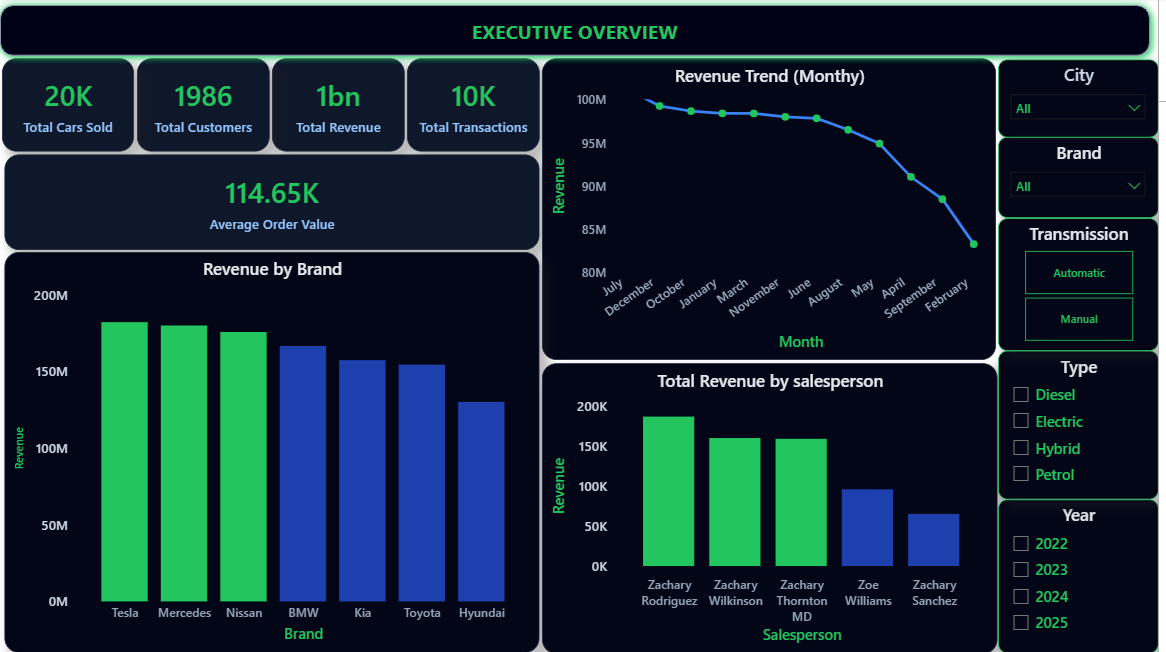

The page's visual inventory and layout, read from the dashboard file:
{"tool":"powerbi","page":{"name":"Page 1","canvas":[1280,720],"ordinal":0},"visuals":[{"type":"card","fields":{"Values":["fact_sales.Total Revenue"]},"box":[307.3,67.2,145.5,102],"z":0},{"type":"card","fields":{"Values":["fact_sales.Total Transactions"]},"box":[455.3,67.2,145.5,102],"z":1000},{"type":"card","fields":{"Values":["fact_sales.Total Customers"]},"box":[159.2,67.2,145.5,102],"z":2000},{"type":"card","fields":{"Values":["fact_sales.Total Cars Sold"]},"box":[11.2,67.2,145,102],"z":3000},{"type":"card","fields":{"Values":["fact_sales.Average Order Value"]},"box":[13.7,172.9,587.1,104.5],"z":4000},{"type":"lineChart","title":"Revenue Trend (Monthy)","fields":{"Y":["fact_sales.Total Revenue"],"Category":["dim_date.month_name"]},"box":[604.3,67.1,498.6,331.4],"z":5000},{"type":"clusteredColumnChart","title":"Revenue by Brand","fields":{"Category":["dim_cars.brand"],"Y":["fact_sales.Total Revenue"]},"box":[14.3,280,587.1,440],"z":6000},{"type":"shape","box":[0,0,1280,73.4],"z":7000},{"type":"clusteredColumnChart","fields":{"Category":["fact_sales.salesperson"],"Y":["fact_sales.Total Revenue"]},"box":[604.3,401.4,500,319],"z":8000},{"type":"slicer","title":"City","fields":{"Values":["dim_customers.city"]},"box":[1104.3,68.6,175.7,85.7],"z":9000},{"type":"slicer","title":"Year","fields":{"Values":["dim_date.year"]},"box":[1104.3,551.4,175.7,168.6],"z":10000},{"type":"slicer","title":"Brand","fields":{"Values":["dim_cars.brand"]},"box":[1104.3,154.3,175.7,88.6],"z":11000},{"type":"slicer","title":"Type","fields":{"Values":["dim_cars.engine_type"]},"box":[1104.3,388.6,175.7,162.9],"z":12000},{"type":"slicer","title":"Transmission","fields":{"Values":["dim_cars.transmission"]},"box":[1104.3,242.9,175.7,145.7],"z":13000}]}

Visuals, with their boxes in screenshot pixels (x1, y1, x2, y2), scaled from the page's 1280x720 canvas onto the 1166x652 screenshot:
card - fact_sales.Total Revenue: pyautogui.locateOnScreen(280, 61, 412, 153)
card - fact_sales.Total Transactions: pyautogui.locateOnScreen(415, 61, 547, 153)
card - fact_sales.Total Customers: pyautogui.locateOnScreen(145, 61, 278, 153)
card - fact_sales.Total Cars Sold: pyautogui.locateOnScreen(10, 61, 142, 153)
card - fact_sales.Average Order Value: pyautogui.locateOnScreen(12, 157, 547, 251)
"Revenue Trend (Monthy)" lineChart: pyautogui.locateOnScreen(550, 61, 1005, 361)
"Revenue by Brand" clusteredColumnChart: pyautogui.locateOnScreen(13, 254, 548, 651)
shape: pyautogui.locateOnScreen(0, 0, 1165, 66)
clusteredColumnChart - fact_sales.salesperson x fact_sales.Total Revenue: pyautogui.locateOnScreen(550, 363, 1006, 651)
"City" slicer: pyautogui.locateOnScreen(1006, 62, 1165, 140)
"Year" slicer: pyautogui.locateOnScreen(1006, 499, 1165, 651)
"Brand" slicer: pyautogui.locateOnScreen(1006, 140, 1165, 220)
"Type" slicer: pyautogui.locateOnScreen(1006, 352, 1165, 499)
"Transmission" slicer: pyautogui.locateOnScreen(1006, 220, 1165, 352)
